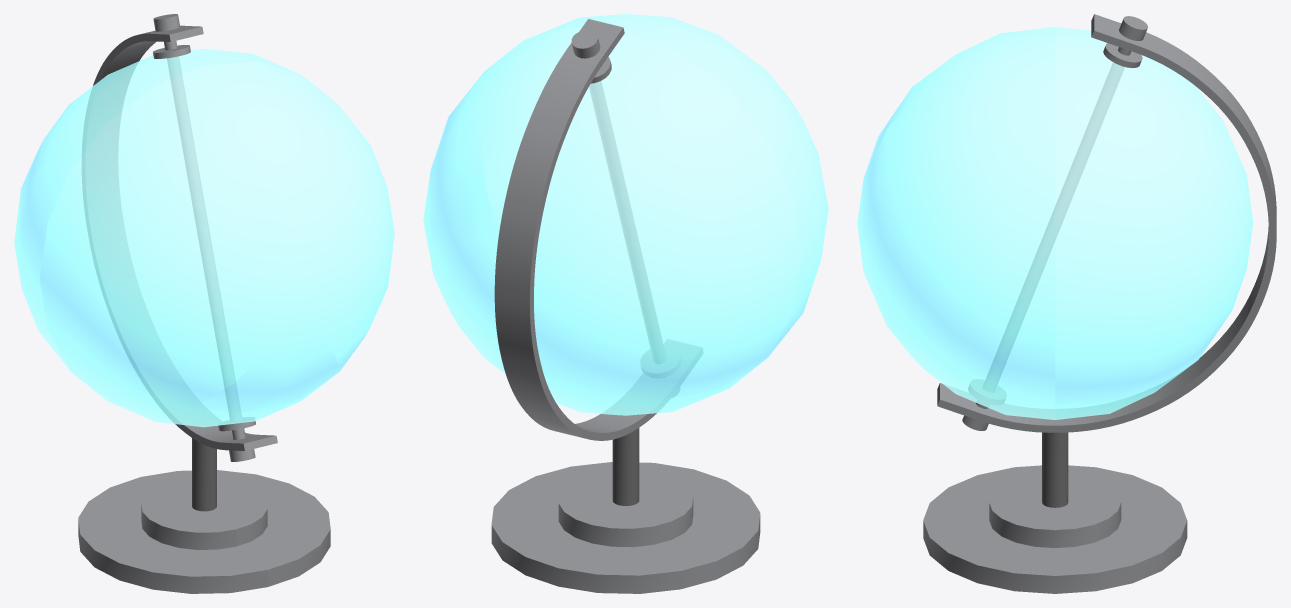
Rendered from asset.glb.
3 views of the same model, side by side, from view 1: azimuth 30°, elevation 25°; view 2: azimuth 150°, elevation 25°; view 3: azimuth 270°, elevation 25° (orthographic). The views are drawn at different scales.
Visible parts, largest first — view 1: Root; view 2: Root; view 3: Root.
Part boxes in pixels (left/top/right/bottom): Root: left=14, top=14, right=394, bottom=593; Root: left=423, top=14, right=828, bottom=593; Root: left=857, top=14, right=1276, bottom=593.
Size of the model in its own units: 0.3 by 0.4342 by 0.3178.
